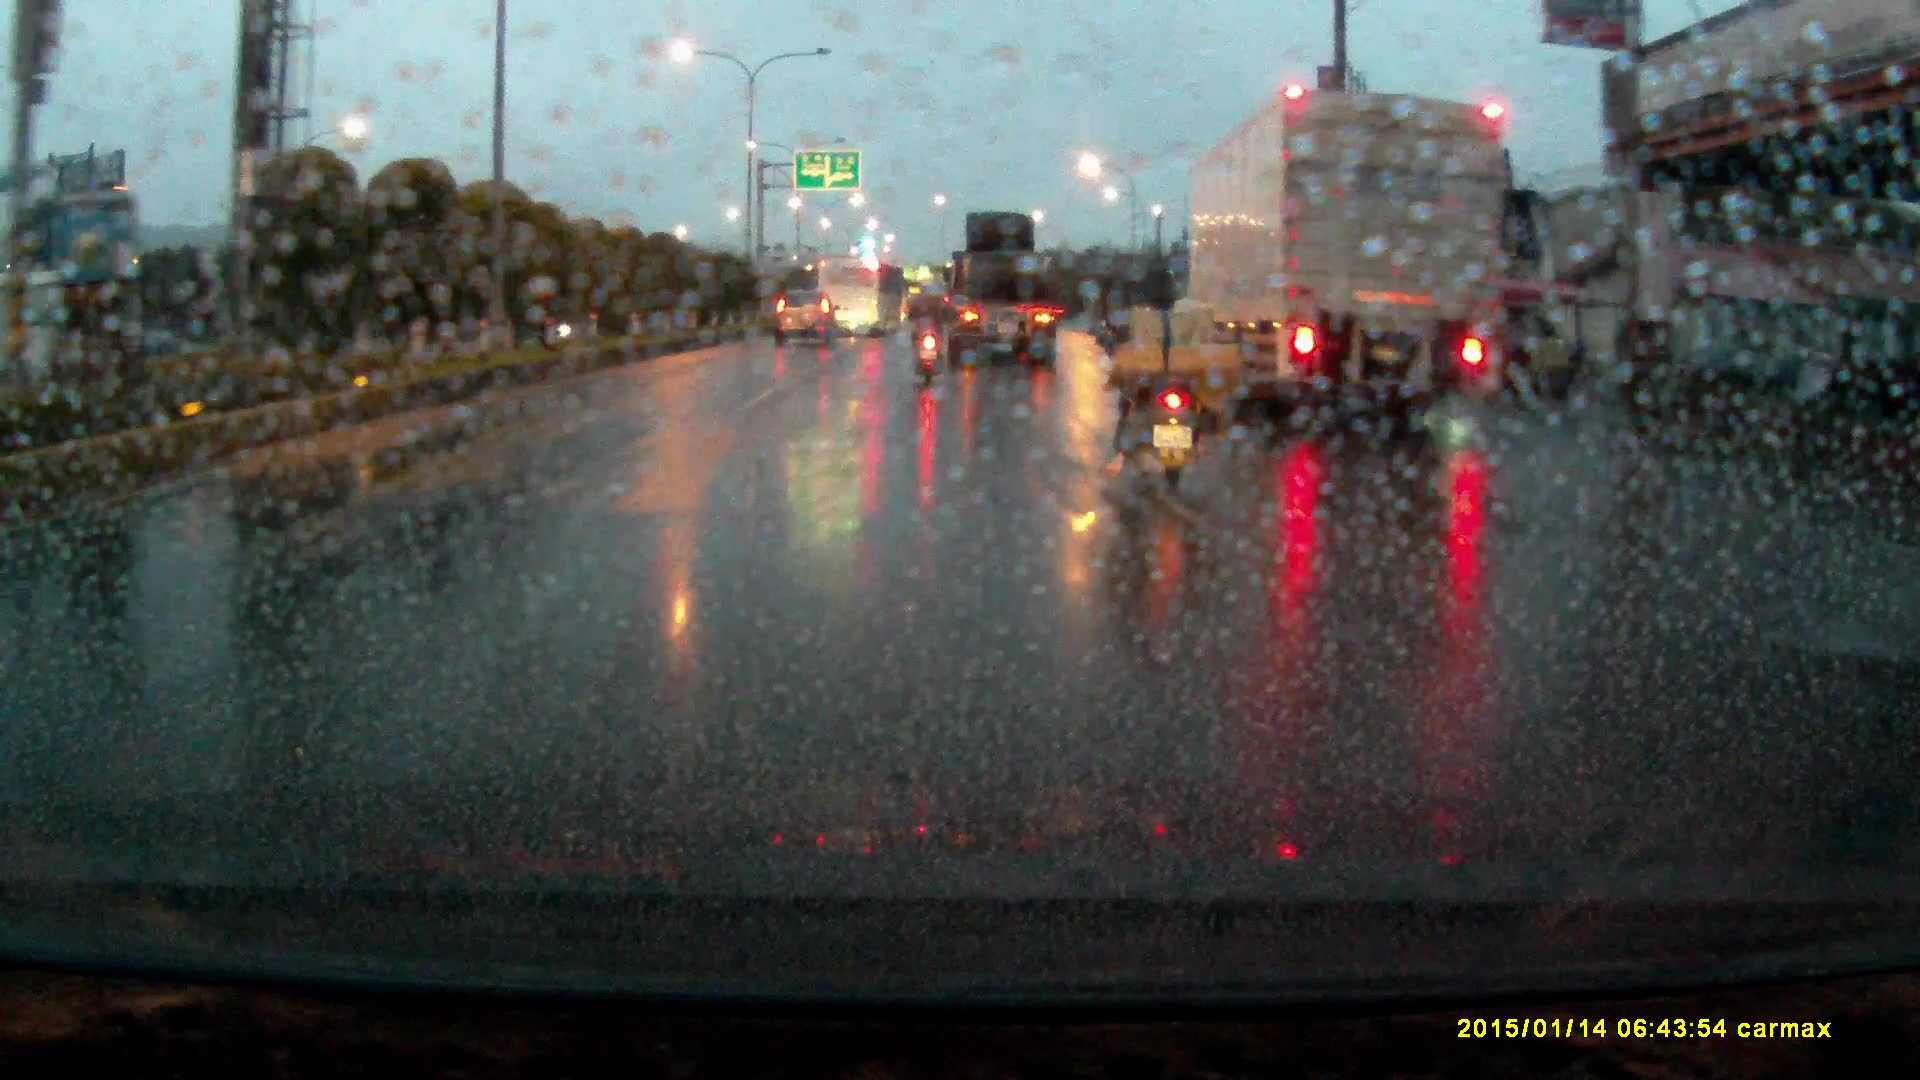rider: (1103, 253, 1232, 514), (910, 281, 951, 386)
vehicle: (1175, 81, 1513, 431), (938, 210, 1060, 367), (815, 257, 884, 337), (772, 293, 842, 355)
